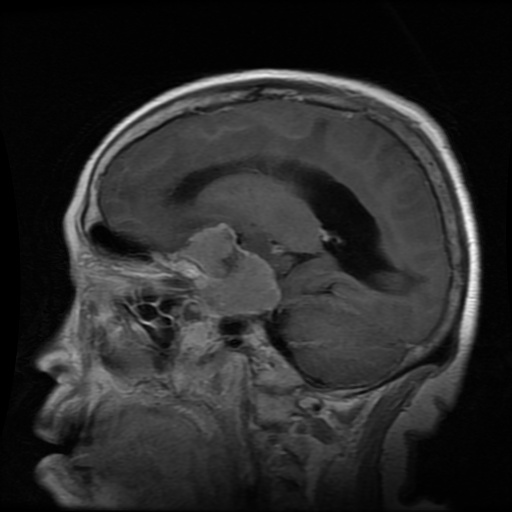meningioma: (179, 225, 283, 316)
